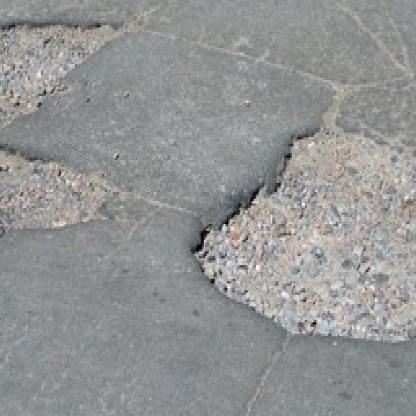pothole: (203, 141, 416, 336), (0, 21, 121, 126), (0, 135, 116, 233)
